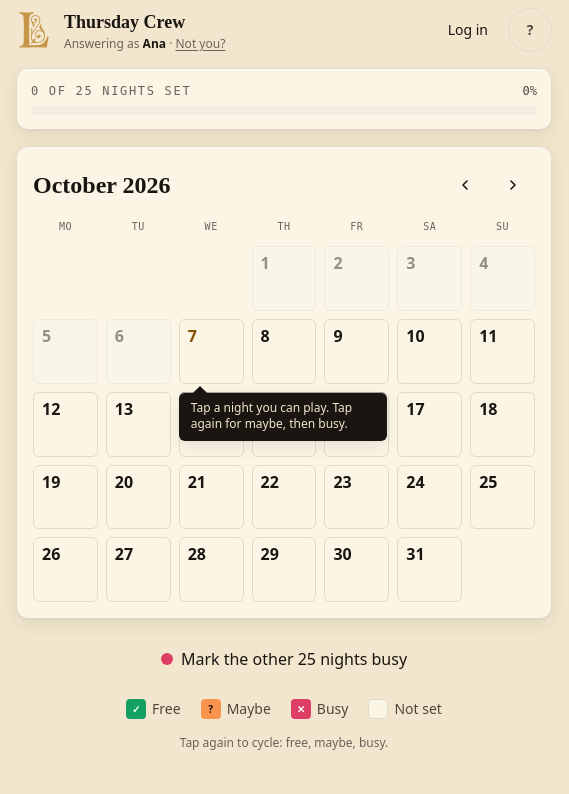
it: PlayerScreen › offers keeping when the visitor reaches a month with saved answers
Expected: the heading "October 2026" is shown, [33,169,170,201]
Expected: the element "Keep this group" is not shown
What coordinates should you click on to do the following:
click the button named "Next month"
I would click on:
 (513, 185)
Its box is [491,163,535,207].
(page scrolled)
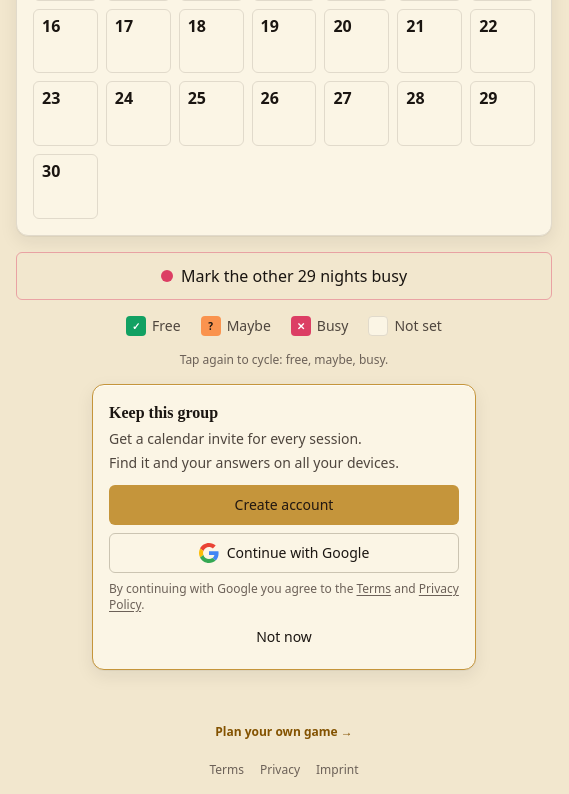
Now the element "Keep this group" is shown, box [92,384,476,670]
